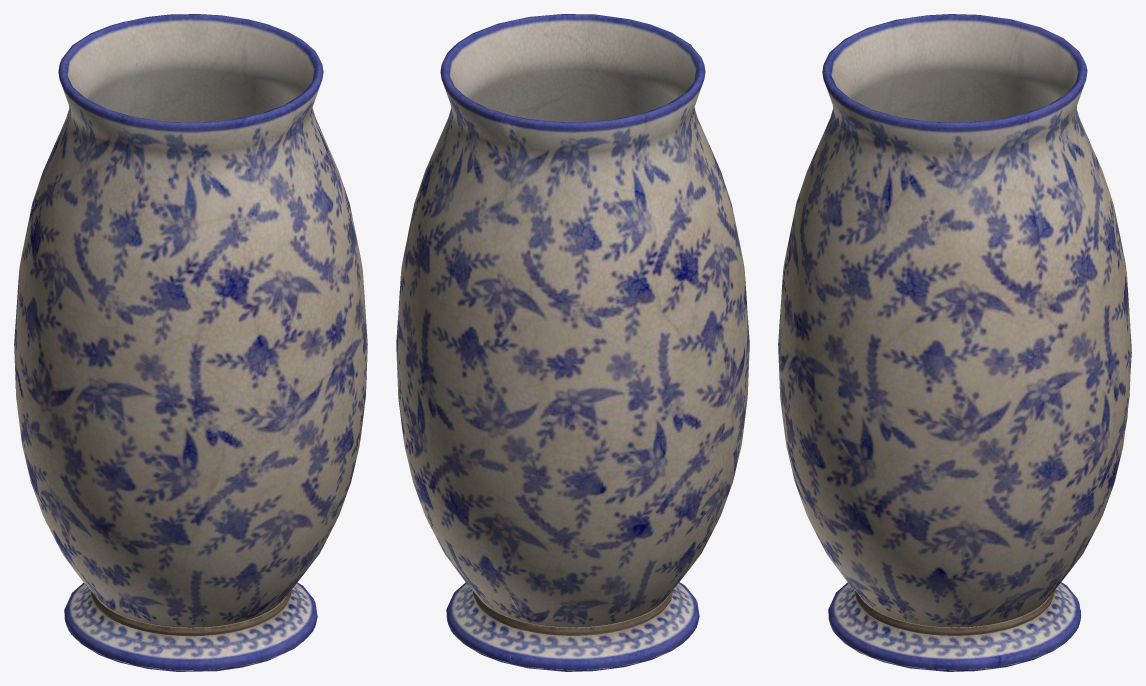
The model's file is ph_antique_ceramic_vase_01.glb.
The picture shows the model from 3 angles, left to right: view 1: azimuth 30°, elevation 25°; view 2: azimuth 150°, elevation 25°; view 3: azimuth 270°, elevation 25°; orthographic projection.
Visible parts, largest first — view 1: antique_ceramic_vase_01; view 2: antique_ceramic_vase_01; view 3: antique_ceramic_vase_01.
Part boxes in pixels (x1=…): antique_ceramic_vase_01: x1=14, y1=14, x2=367, y2=671; antique_ceramic_vase_01: x1=396, y1=14, x2=749, y2=671; antique_ceramic_vase_01: x1=778, y1=14, x2=1131, y2=671.
Bounding box in the file's own units: 0.2554 × 0.4397 × 0.2556.
Materials: 1 (1 with a texture image).
